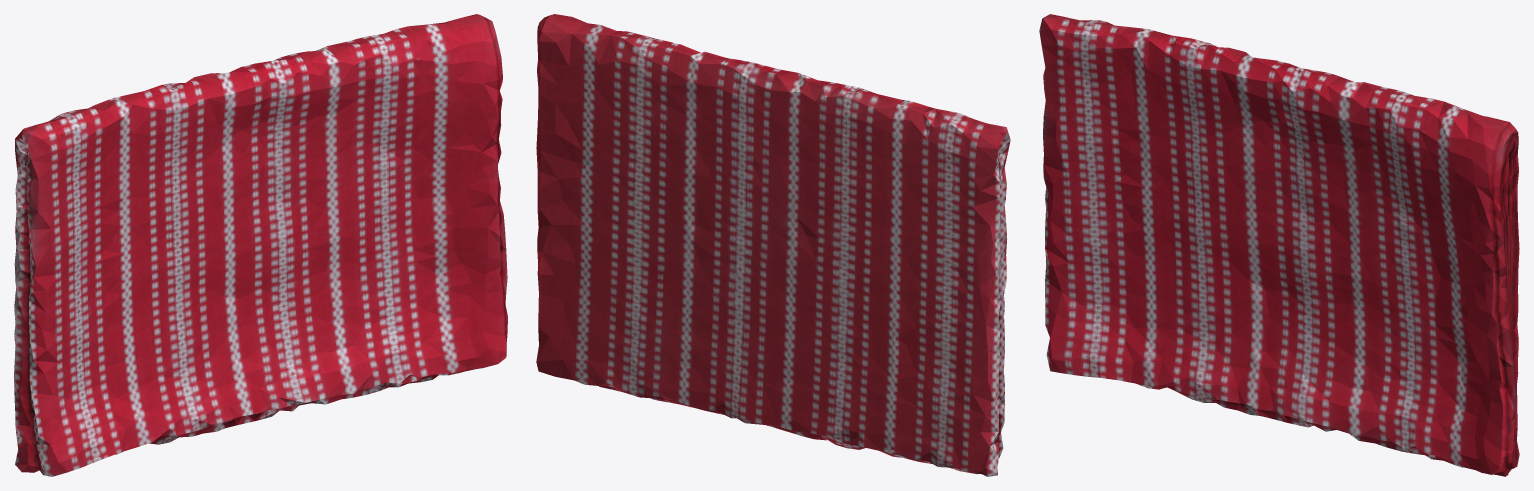
The picture shows the model from 3 angles, left to right: view 1: azimuth 30°, elevation 25°; view 2: azimuth 150°, elevation 25°; view 3: azimuth 330°, elevation 25°; orthographic projection.
Bounding box in the file's own units: 0.2366 × 0.1708 × 0.0265.
Materials: 1 (1 with a texture image).
